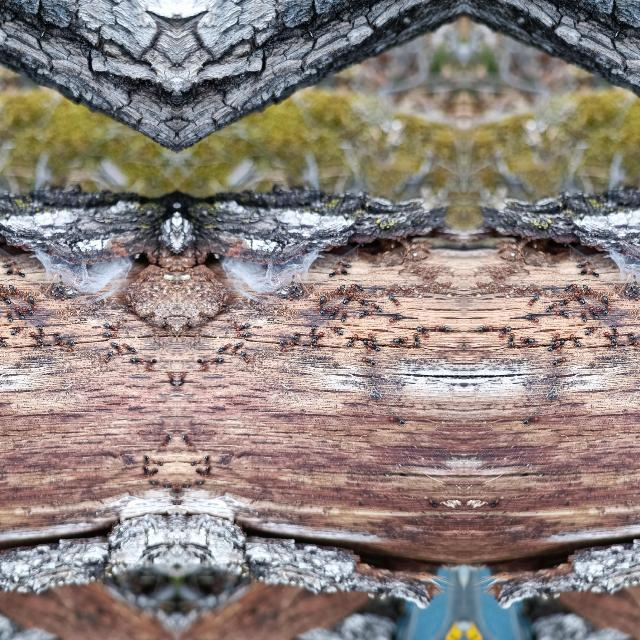Crematogaster: (237, 348, 251, 366), (391, 331, 409, 345), (101, 348, 115, 366), (518, 331, 536, 345), (524, 312, 544, 324), (383, 312, 402, 324), (314, 304, 332, 316), (20, 304, 38, 316), (228, 340, 242, 354), (340, 290, 354, 304), (313, 296, 327, 310), (110, 340, 124, 354), (144, 357, 158, 371), (573, 290, 587, 304), (25, 296, 39, 310), (600, 296, 614, 310), (498, 324, 512, 338), (178, 432, 190, 448), (361, 354, 377, 366), (162, 432, 174, 448), (550, 354, 566, 366), (596, 304, 612, 316), (195, 357, 208, 371), (216, 341, 230, 353), (208, 354, 222, 366), (310, 331, 324, 343), (416, 324, 428, 338), (426, 495, 438, 509), (122, 341, 136, 353), (130, 354, 144, 366), (28, 331, 42, 343), (0, 290, 12, 304), (12, 306, 26, 318), (489, 495, 501, 509), (366, 342, 384, 351), (543, 342, 561, 351), (347, 332, 357, 348), (368, 302, 384, 312), (348, 282, 364, 292), (433, 322, 449, 332), (570, 332, 580, 348), (508, 332, 518, 348), (478, 322, 494, 332), (326, 306, 339, 318), (176, 369, 184, 388), (168, 369, 176, 388), (234, 329, 250, 338), (334, 283, 346, 295), (387, 294, 399, 306), (409, 332, 418, 348), (388, 416, 406, 424), (102, 329, 118, 338), (604, 331, 616, 343), (6, 283, 18, 295), (581, 283, 593, 295), (588, 306, 600, 318), (528, 294, 540, 306), (521, 416, 539, 424), (234, 320, 248, 330), (360, 338, 370, 352), (329, 325, 343, 335), (338, 308, 348, 322), (104, 320, 118, 330), (557, 338, 567, 352), (9, 325, 23, 335), (584, 325, 598, 335), (578, 259, 592, 269), (4, 308, 14, 322), (579, 308, 589, 322), (544, 302, 558, 312), (564, 282, 578, 292), (277, 338, 285, 354), (67, 338, 75, 354), (366, 332, 376, 344), (288, 334, 298, 346), (336, 259, 348, 269), (551, 332, 561, 344), (54, 334, 64, 346), (4, 259, 16, 269), (190, 480, 204, 488), (148, 480, 162, 488), (306, 326, 316, 336), (338, 266, 348, 276), (356, 297, 366, 307), (36, 326, 46, 336), (4, 266, 14, 276), (579, 266, 589, 276), (202, 452, 210, 464), (202, 464, 210, 476), (188, 459, 200, 467), (142, 452, 150, 464), (142, 464, 150, 476), (152, 459, 164, 467), (630, 334, 638, 346), (196, 467, 204, 478), (358, 309, 369, 317), (148, 467, 156, 478), (288, 288, 294, 302), (58, 288, 64, 302), (180, 482, 190, 490), (162, 482, 172, 490), (612, 326, 620, 336), (558, 309, 568, 317), (562, 297, 570, 307), (0, 332, 5, 347), (590, 268, 598, 276), (329, 268, 336, 276), (634, 288, 638, 302), (15, 268, 22, 276), (0, 281, 3, 292)
